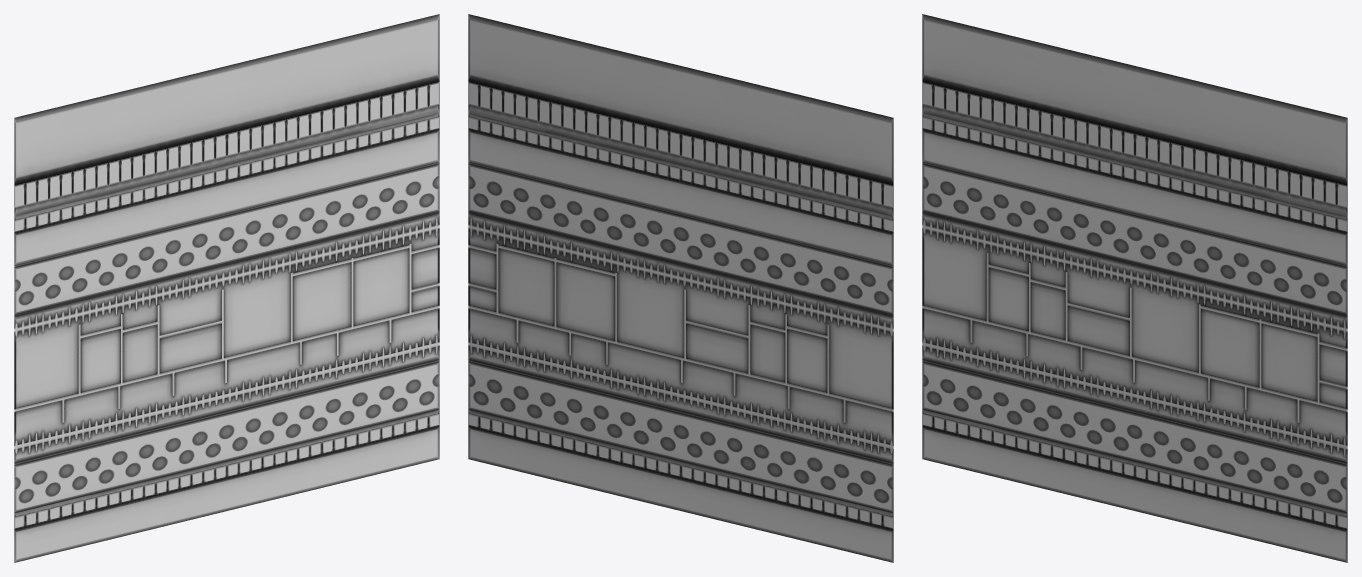
Rendered from WallV3.fbx.
3 views of the same model, side by side, from view 1: azimuth 30°, elevation 25°; view 2: azimuth 150°, elevation 25°; view 3: azimuth 330°, elevation 25° (orthographic).
Visible parts, largest first — view 1: WallV3; view 2: WallV3; view 3: WallV3.
Part boxes in pixels (x1,y1,x2,y2): WallV3: (14,14,439,562); WallV3: (468,14,893,562); WallV3: (922,14,1347,562).
Bounding box in the file's own units: 500 × 500 × 0.
1 material, 1 textured.
